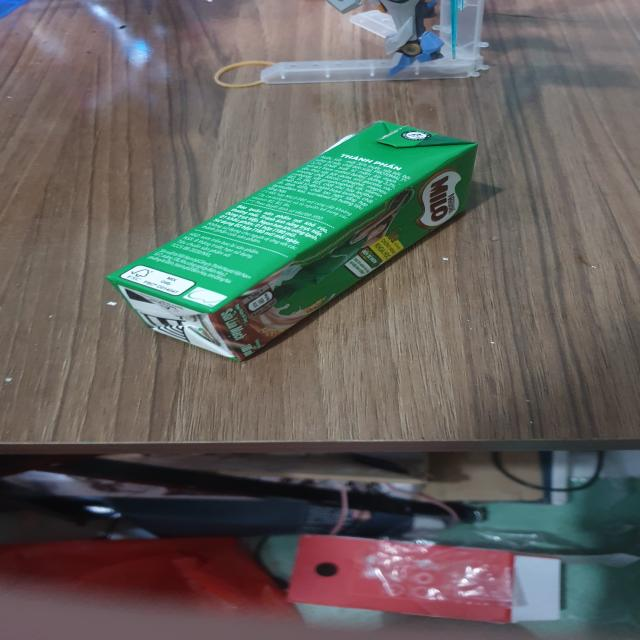Milo: (103, 120, 482, 365)
